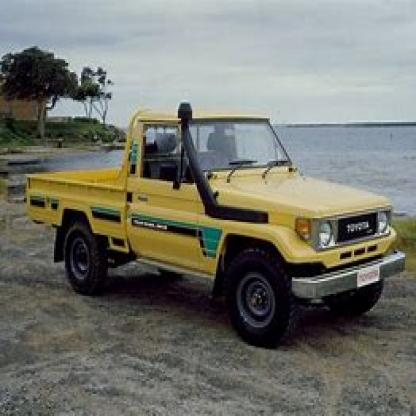light_vehicle: (24, 87, 402, 351)
